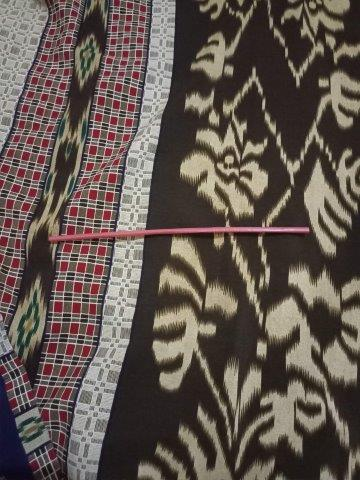sedotan: (48, 227, 309, 243)
